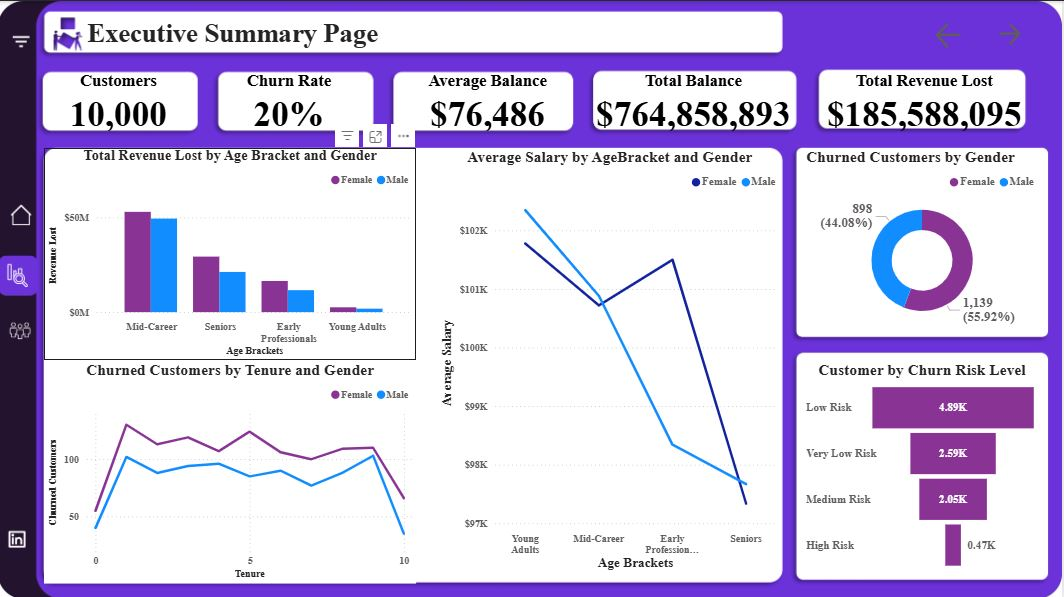

Layout of this report page (visuals, bound fields, positions):
{"tool":"powerbi","page":{"name":"Executive Summary","canvas":[1280,720],"ordinal":1},"visuals":[{"type":"textbox","box":[101.9,16.2,425.6,68],"z":0},{"type":"card","title":"Customers","fields":{"Values":["KPIs.Num_of_Customers"]},"box":[41.3,84.1,207.9,76.7],"z":1000},{"type":"clusteredColumnChart","title":"Total Revenue Lost by Age Bracket and Gender","fields":{"Category":["Churn_Modelling.AgeBracket"],"Y":["KPIs.Total Revenue Lost"],"Series":["Churn_Modelling.Gender"]},"box":[54.9,176.7,448.3,255.6],"z":2000},{"type":"lineChart","title":"Average Salary by AgeBracket and Gender","fields":{"Category":["Churn_Modelling.AgeBracket"],"Y":["Avg(Churn_Modelling.EstimatedSalary)"],"Series":["Churn_Modelling.Gender"]},"box":[527.9,177,418.8,513.2],"z":3000},{"type":"funnel","title":"Customer by Churn Risk Level","fields":{"Y":["CountNonNull(Churn_Modelling.CustomerId)"],"Category":["Churn_Modelling.Churn Risk Level"]},"box":[967.6,433.6,289.1,257],"z":4000},{"type":"lineChart","title":"Churned Customers by  Tenure and Gender","fields":{"Category":["Churn_Modelling.Tenure"],"Y":["KPIs.Churned Customers by Tenure"],"Series":["Churn_Modelling.Gender"]},"box":[54.9,433.6,448.3,267.7],"z":5000},{"type":"donutChart","fields":{"Y":["KPIs.Churned Customers"],"Category":["Churn_Modelling.Gender"]},"box":[967.6,176.7,289.1,220.8],"z":6000},{"type":"card","title":"Average Balance","fields":{"Values":["KPIs.Avg"]},"box":[489.6,84.1,199.1,76.7],"z":7000},{"type":"card","title":"Total Balance","fields":{"Values":["KPIs.Total Balance"]},"box":[706.4,84.1,261,76.7],"z":8000},{"type":"card","title":"Total Revenue Lost","fields":{"Values":["KPIs.Total Revenue Lost"]},"box":[988,84.1,253.6,76.7],"z":9000},{"type":"card","title":"Churn Rate","fields":{"Values":["KPIs.Churn Rate"]},"box":[278.7,84.1,144.5,76.7],"z":10000},{"type":"actionButton","box":[1193.8,16.1,62.9,49.5],"z":10001},{"type":"actionButton","box":[0,238.2,54.9,49.5],"z":10003},{"type":"actionButton","box":[1124.2,21.4,58.9,40.1],"z":10004}]}

Visuals, with their boxes on the page's 1280x720 design canvas (x1, y1, x2, y2). These are canvas units, not pixel positions in the 1064x597 screenshot, which may show the page scaled, cropped or inside an application window:
textbox: left=102, top=16, right=528, bottom=84
"Customers" card: left=41, top=84, right=249, bottom=161
"Total Revenue Lost by Age Bracket and Gender" clusteredColumnChart: left=55, top=177, right=503, bottom=432
"Average Salary by AgeBracket and Gender" lineChart: left=528, top=177, right=947, bottom=690
"Customer by Churn Risk Level" funnel: left=968, top=434, right=1257, bottom=691
"Churned Customers by  Tenure and Gender" lineChart: left=55, top=434, right=503, bottom=701
donutChart - KPIs.Churned Customers x Churn_Modelling.Gender: left=968, top=177, right=1257, bottom=398
"Average Balance" card: left=490, top=84, right=689, bottom=161
"Total Balance" card: left=706, top=84, right=967, bottom=161
"Total Revenue Lost" card: left=988, top=84, right=1242, bottom=161
"Churn Rate" card: left=279, top=84, right=423, bottom=161
actionButton: left=1194, top=16, right=1257, bottom=66
actionButton: left=0, top=238, right=55, bottom=288
actionButton: left=1124, top=21, right=1183, bottom=62
